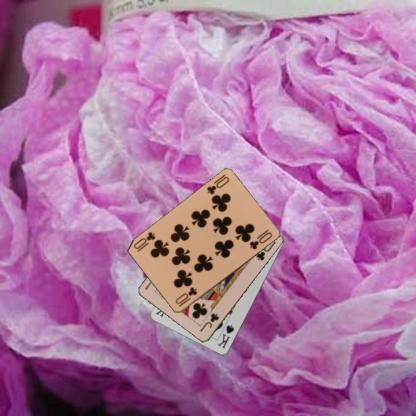10c: (173, 284, 198, 308), (204, 174, 230, 196)
Jc: (197, 311, 220, 333)
Ks: (215, 323, 236, 350)
